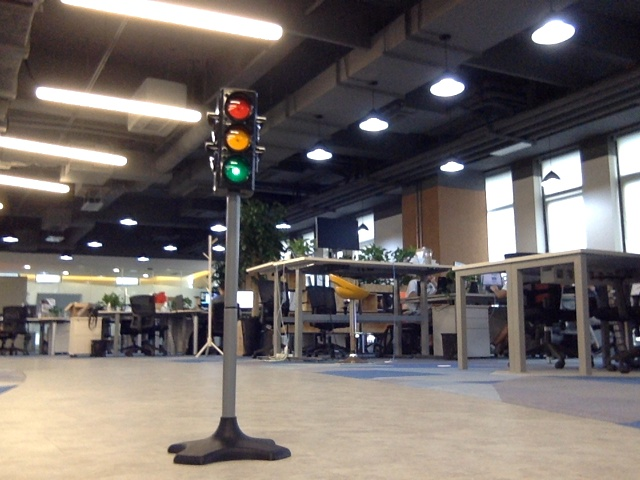green: (223, 92, 250, 185)
